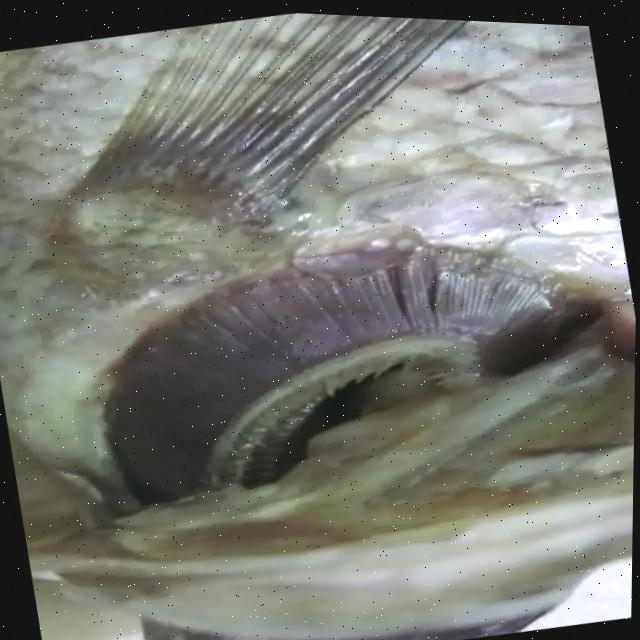Non-Fresh: (54, 183, 611, 536)
